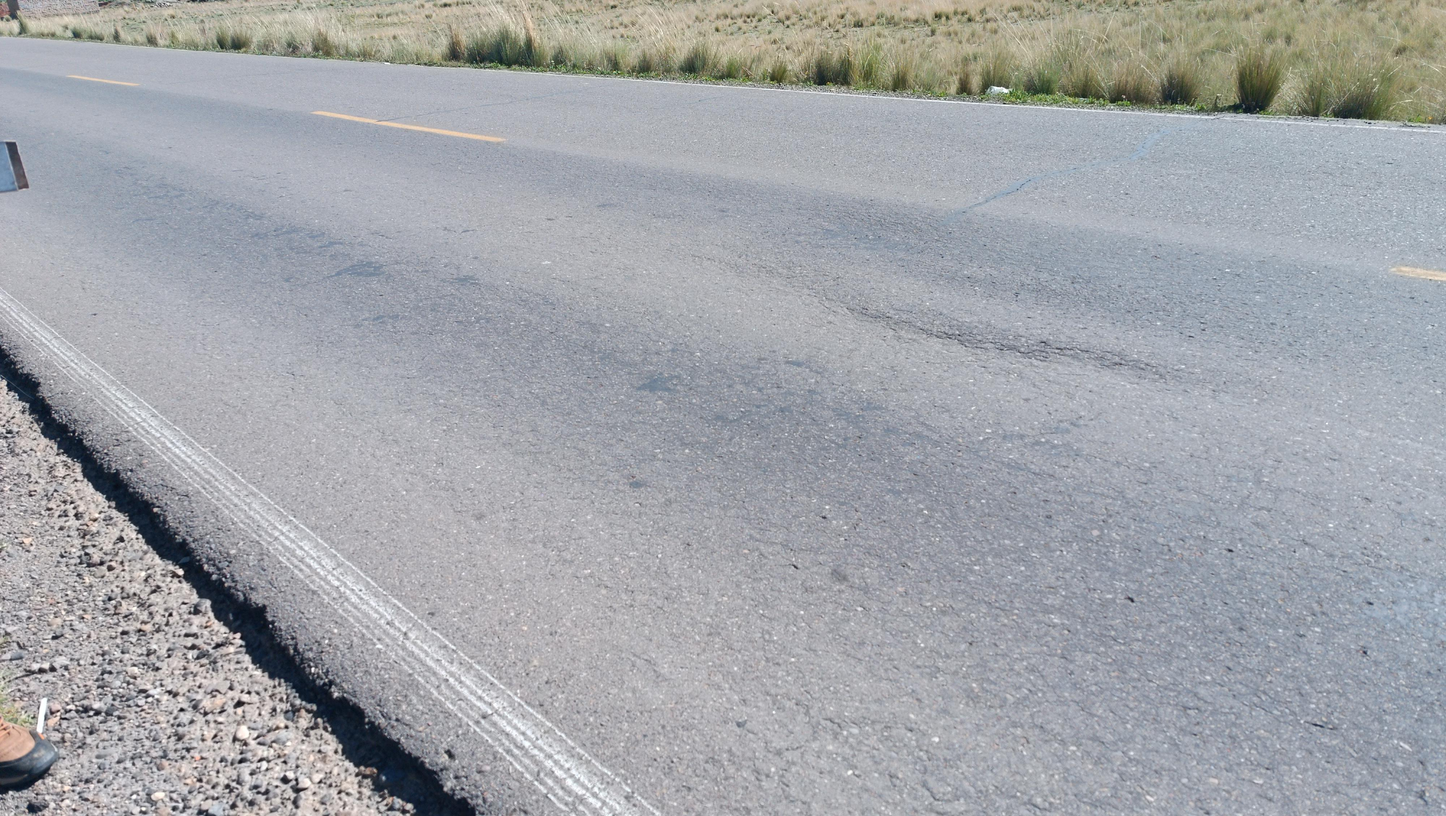PIEL DE COCODRILO: (670, 467, 1446, 816), (754, 258, 1183, 395)
